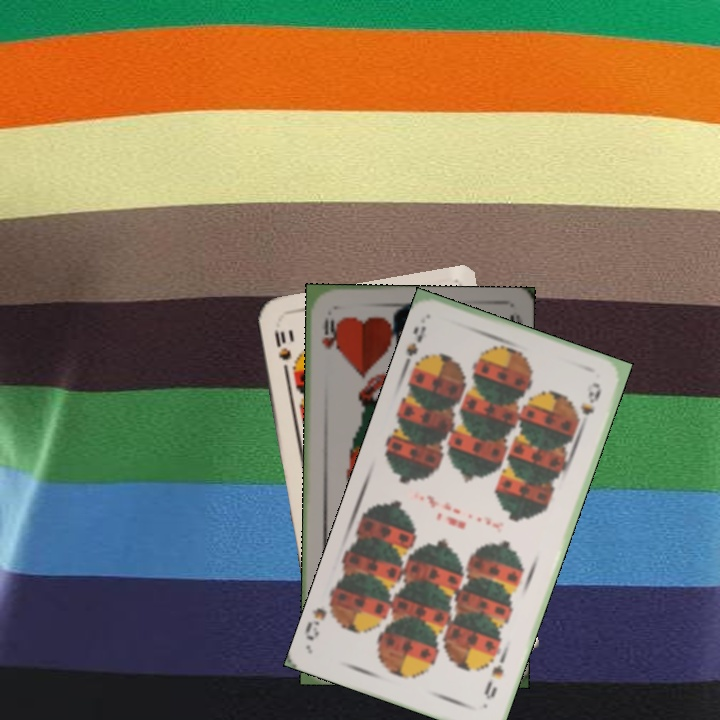HO: (317, 314, 340, 352)
S10: (270, 326, 294, 378)
S9: (398, 322, 430, 375), (479, 650, 508, 702)
